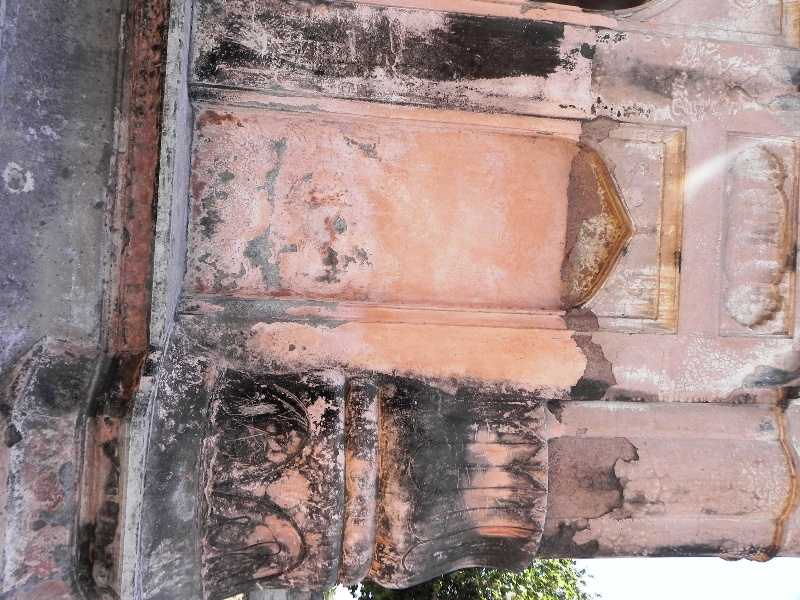Spalling: (556, 107, 619, 399), (543, 431, 647, 519)
